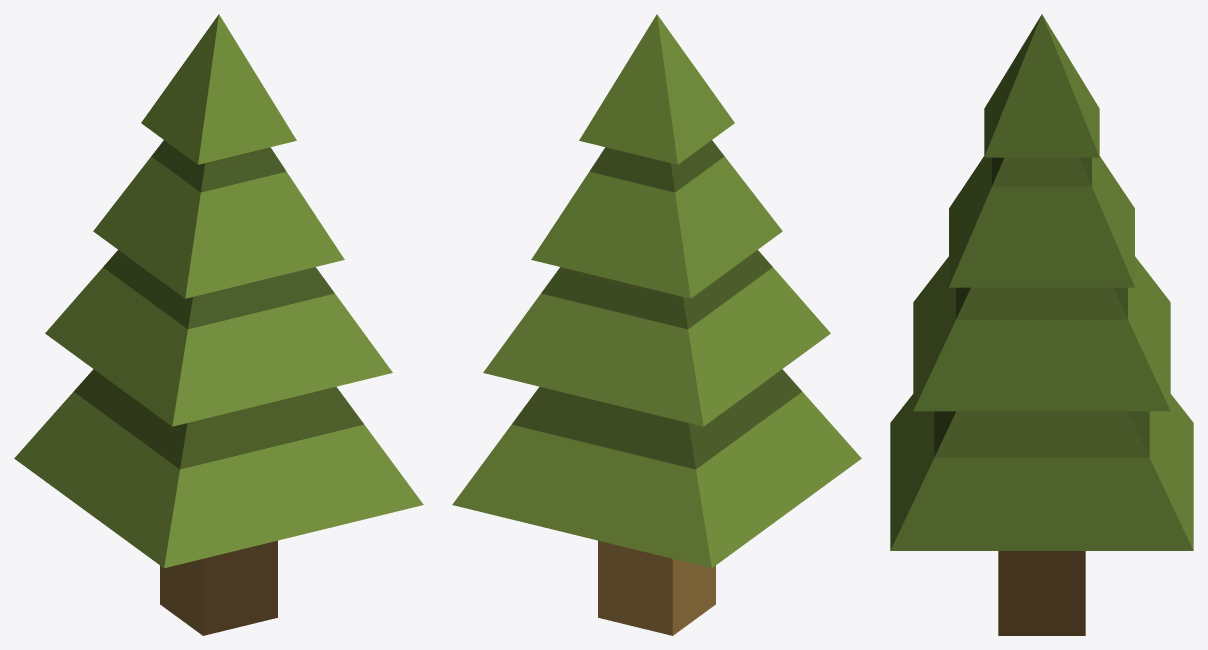
Rendered from tree_05.FBX.
3 renders of one model, left to right at view 1: azimuth 30°, elevation 25°; view 2: azimuth 150°, elevation 25°; view 3: azimuth 270°, elevation 25°, orthographic.
Visible parts, largest first — view 1: tree_01; view 2: tree_01; view 3: tree_01.
Part boxes in pixels (x1,y1,x2,y2): tree_01: [14, 14, 423, 635]; tree_01: [452, 14, 861, 635]; tree_01: [890, 14, 1193, 635].
Size of the model in its own units: 160 by 351 by 160.
